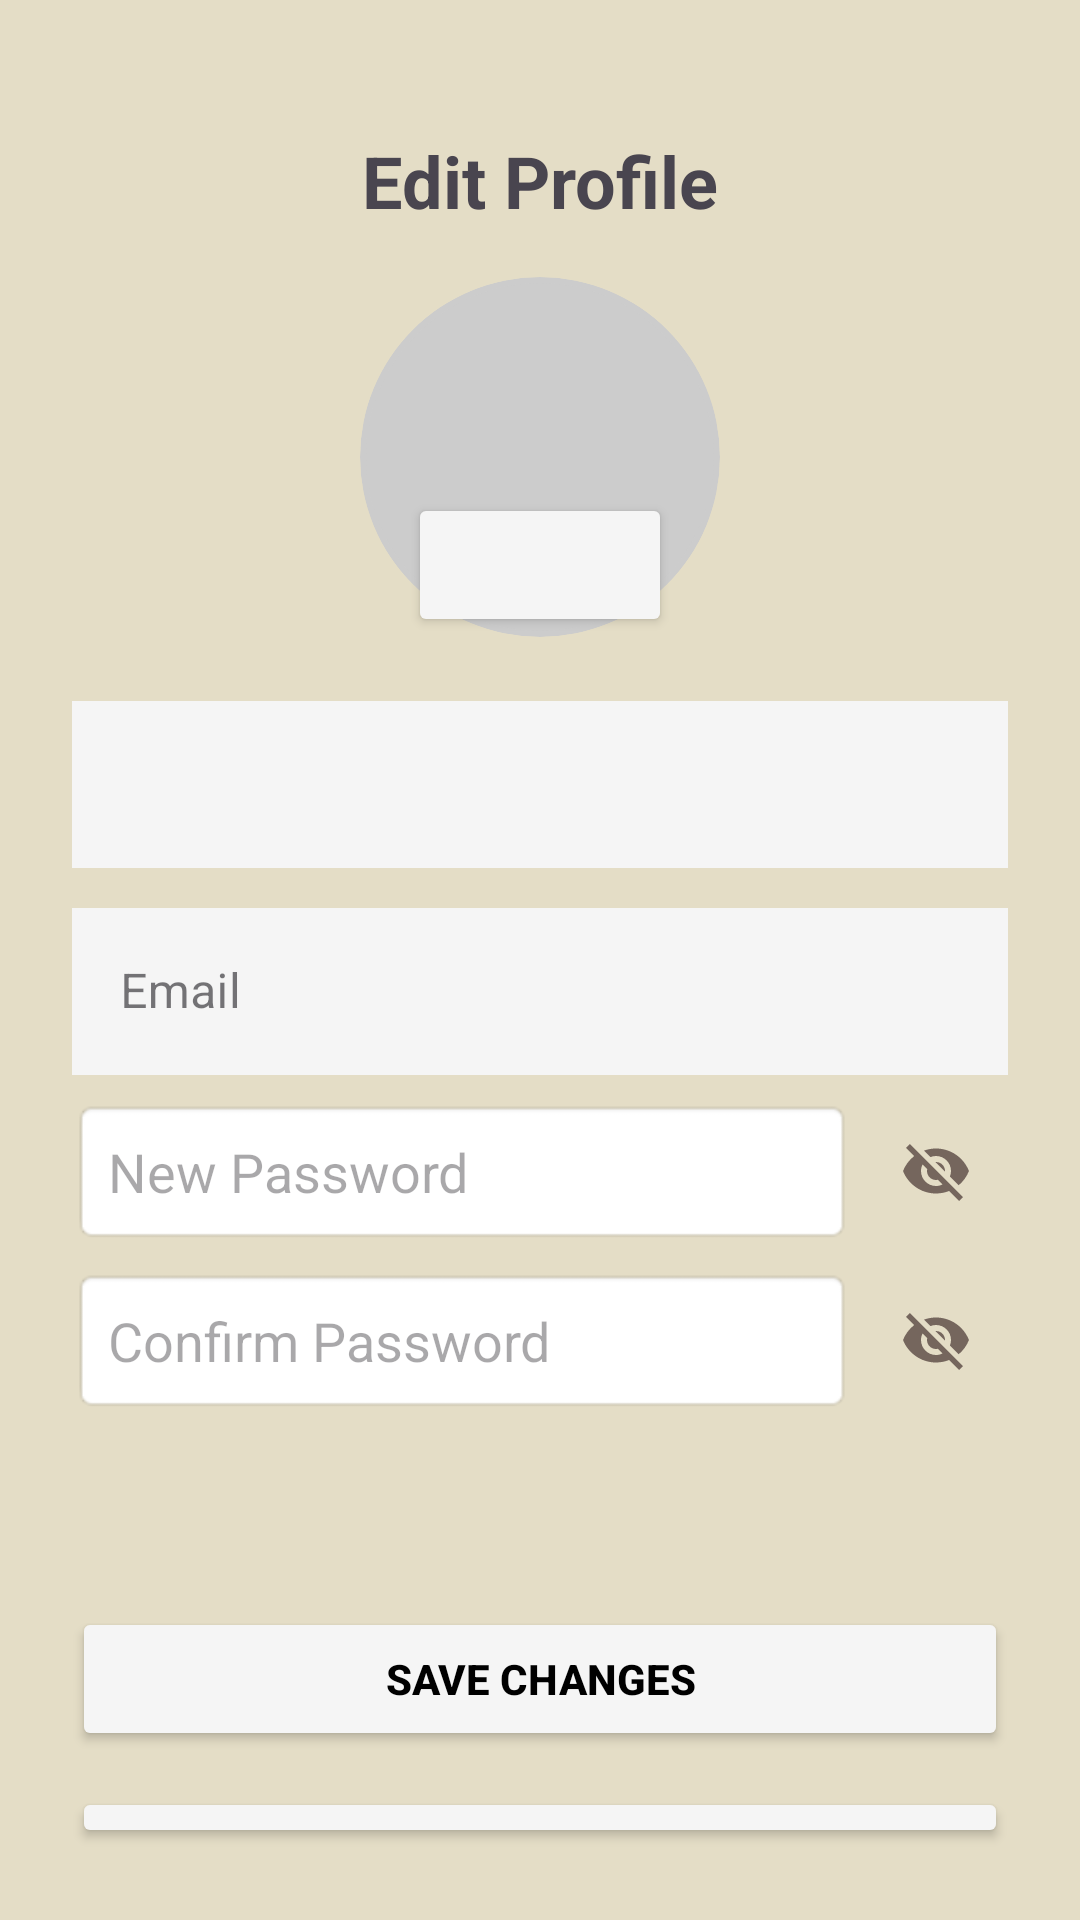

Where icons sit on this 1080×1920 app screen, as (left=x1, top=y1, right=x2, bottom=y2):
hide password: (left=903, top=1144, right=969, bottom=1201), (left=903, top=1313, right=969, bottom=1370)
